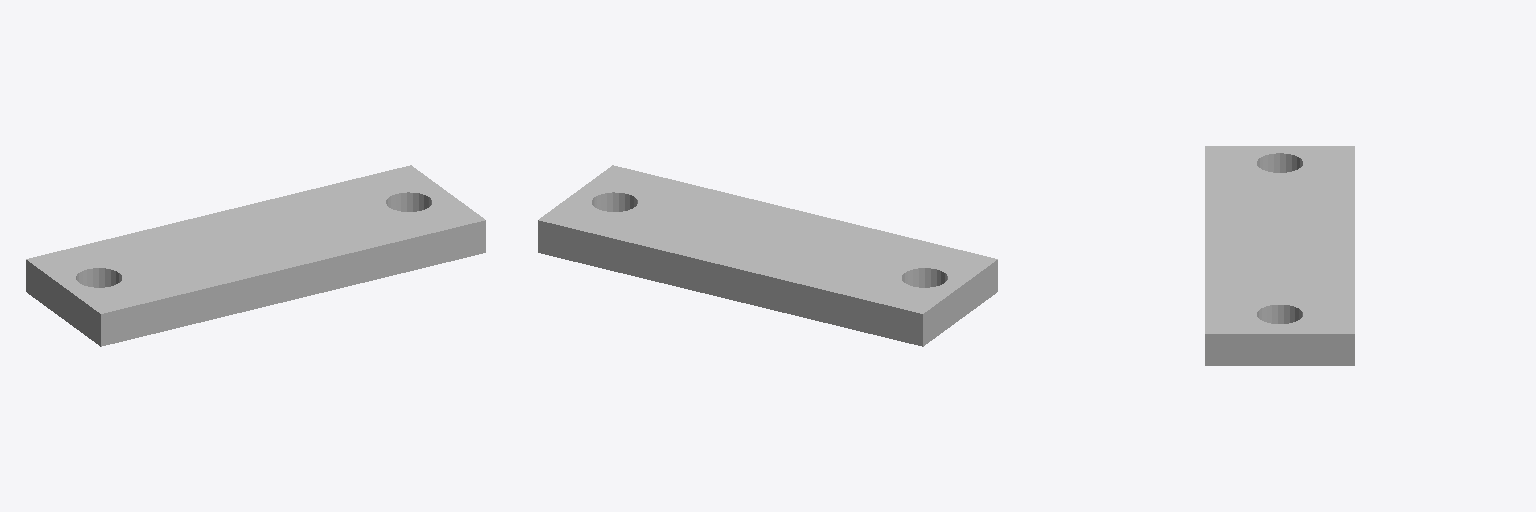
Rendered from USBCBoard.obj.
The picture shows the model from 3 angles: view 1: azimuth 30°, elevation 25°; view 2: azimuth 150°, elevation 25°; view 3: azimuth 270°, elevation 25°; orthographic projection.
Visible parts, largest first — view 1: Mesh1 Group1 Model; view 2: Mesh1 Group1 Model; view 3: Mesh1 Group1 Model.
Part boxes in pixels (left/top/right/bottom): Mesh1 Group1 Model: left=26, top=165, right=485, bottom=346; Mesh1 Group1 Model: left=538, top=165, right=997, bottom=346; Mesh1 Group1 Model: left=1205, top=146, right=1354, bottom=365.
Size of the model in its own units: 20 by 1.62 by 6.75.